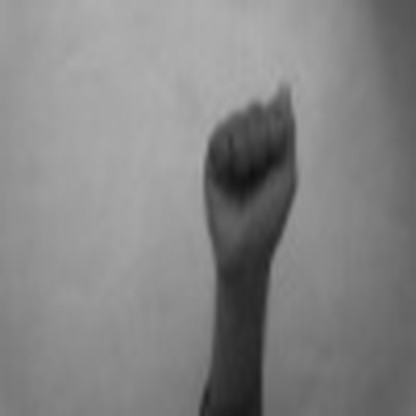a: (196, 77, 305, 260)
